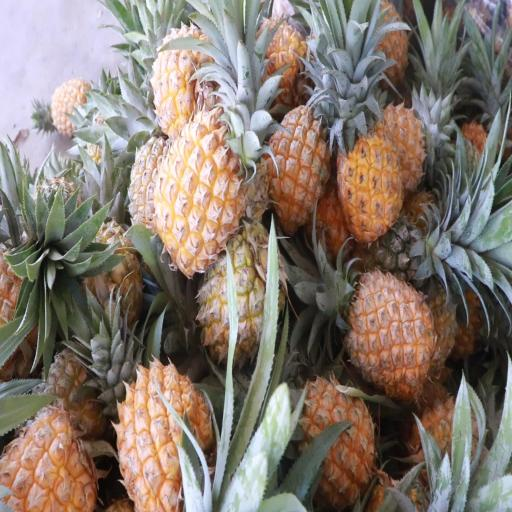------------------------------: (199, 240, 276, 369)
Pineapple - v8 v1: (116, 366, 205, 509), (159, 121, 243, 266), (296, 384, 377, 510), (349, 274, 433, 388), (0, 414, 97, 512), (264, 107, 333, 229), (338, 125, 404, 234), (152, 30, 218, 136), (260, 14, 312, 92)
